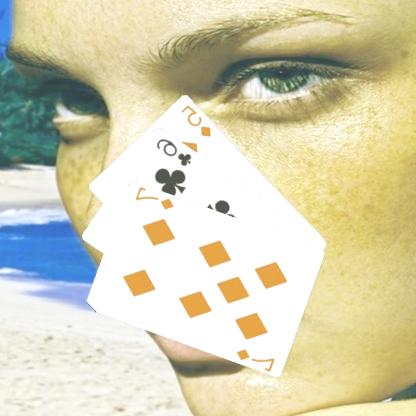5D: (180, 101, 214, 138)
6C: (154, 135, 194, 167)
7D: (134, 185, 177, 211), (235, 345, 278, 371)
